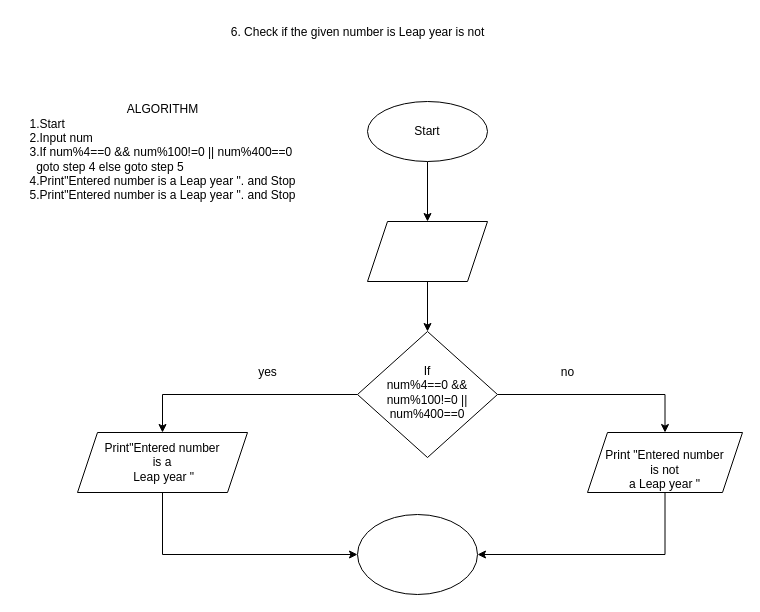
This 760x612 diagram has some shape labels left out. The box of each missing label's shape, as (x1, y1, x2, y2) in pixels:
Input num: (366, 220, 488, 282)
Stop: (356, 514, 478, 594)
